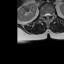CCS_normal: (46, 11, 48, 20)
LFS_stenosis: (51, 11, 53, 18)
LLS_normal: (48, 11, 51, 18)
RFS_normal: (42, 12, 44, 18)
RLS_normal: (44, 12, 46, 18)
